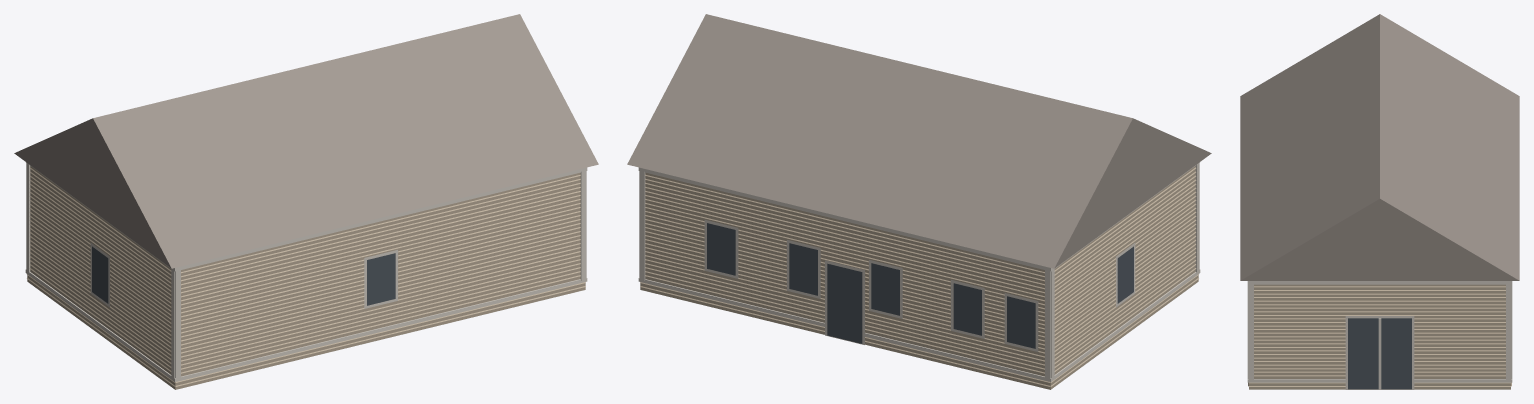
Rendered from dole_warehouse_south__frame_1832.glb.
3 views of the same model, side by side, from view 1: azimuth 30°, elevation 25°; view 2: azimuth 150°, elevation 25°; view 3: azimuth 270°, elevation 25° (orthographic). The views are drawn at different scales.
Visible parts, largest first — view 1: dole_warehouse_south__frame_1832; view 2: dole_warehouse_south__frame_1832; view 3: dole_warehouse_south__frame_1832.
Part boxes in pixels (x1,y1,x2,y2): dole_warehouse_south__frame_1832: [14, 14, 598, 389]; dole_warehouse_south__frame_1832: [627, 14, 1211, 389]; dole_warehouse_south__frame_1832: [1240, 14, 1519, 389].
Size of the model in its own units: 12.69 by 6.24 by 8.12.
